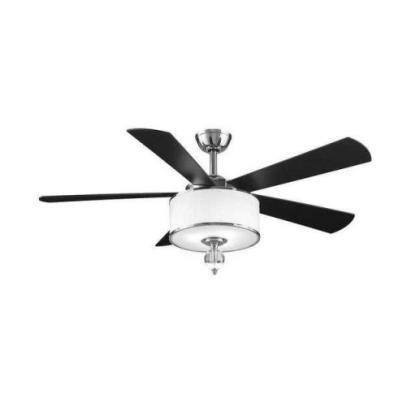ceiling-fan: (37, 127, 373, 276)
